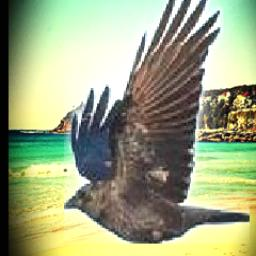Crow: (64, 0, 250, 244)
